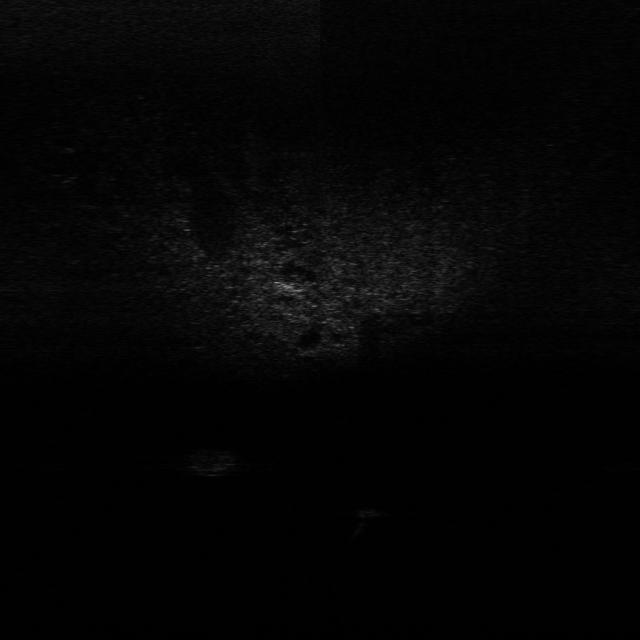circle cage: (183, 443, 242, 476)
cylinder: (352, 505, 378, 538)
